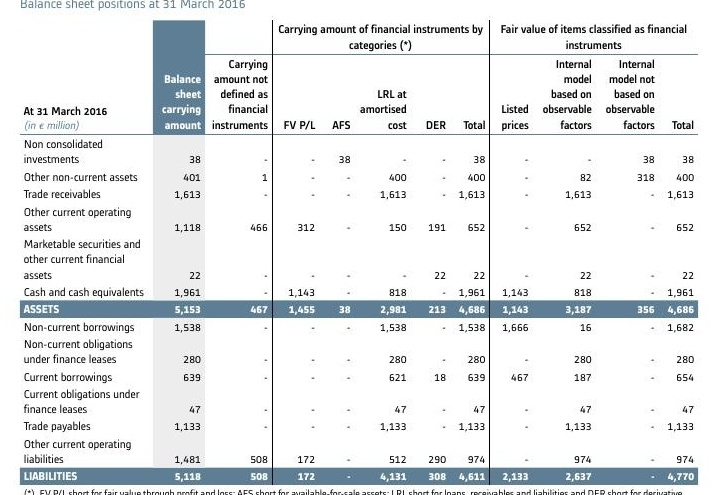table: (0, 0, 722, 495)
